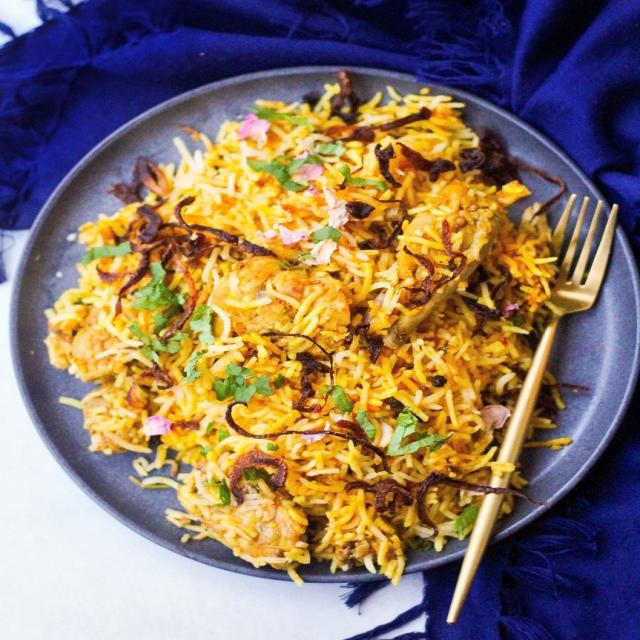chicken biryani: (81, 144, 508, 552)
